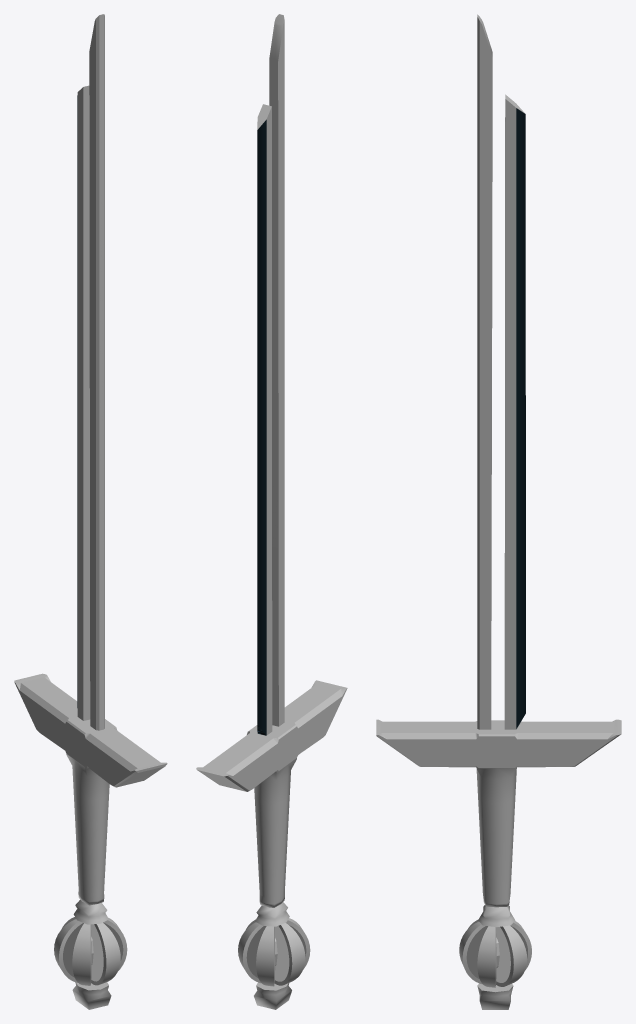
File: EpeeAlex.fbx
3 views of the same model, side by side, from view 1: azimuth 30°, elevation 25°; view 2: azimuth 150°, elevation 25°; view 3: azimuth 270°, elevation 25° (orthographic).
Parts seen in each view (by area): view 1: pSphere10; view 2: pSphere10; view 3: pSphere10.
Part boxes in pixels (<box>): pSphere10: <box>14,14,167,1009</box>; pSphere10: <box>196,14,347,1009</box>; pSphere10: <box>376,14,621,1009</box>.
Bounding box in the file's own units: 2 × 29.94 × 6.73.
